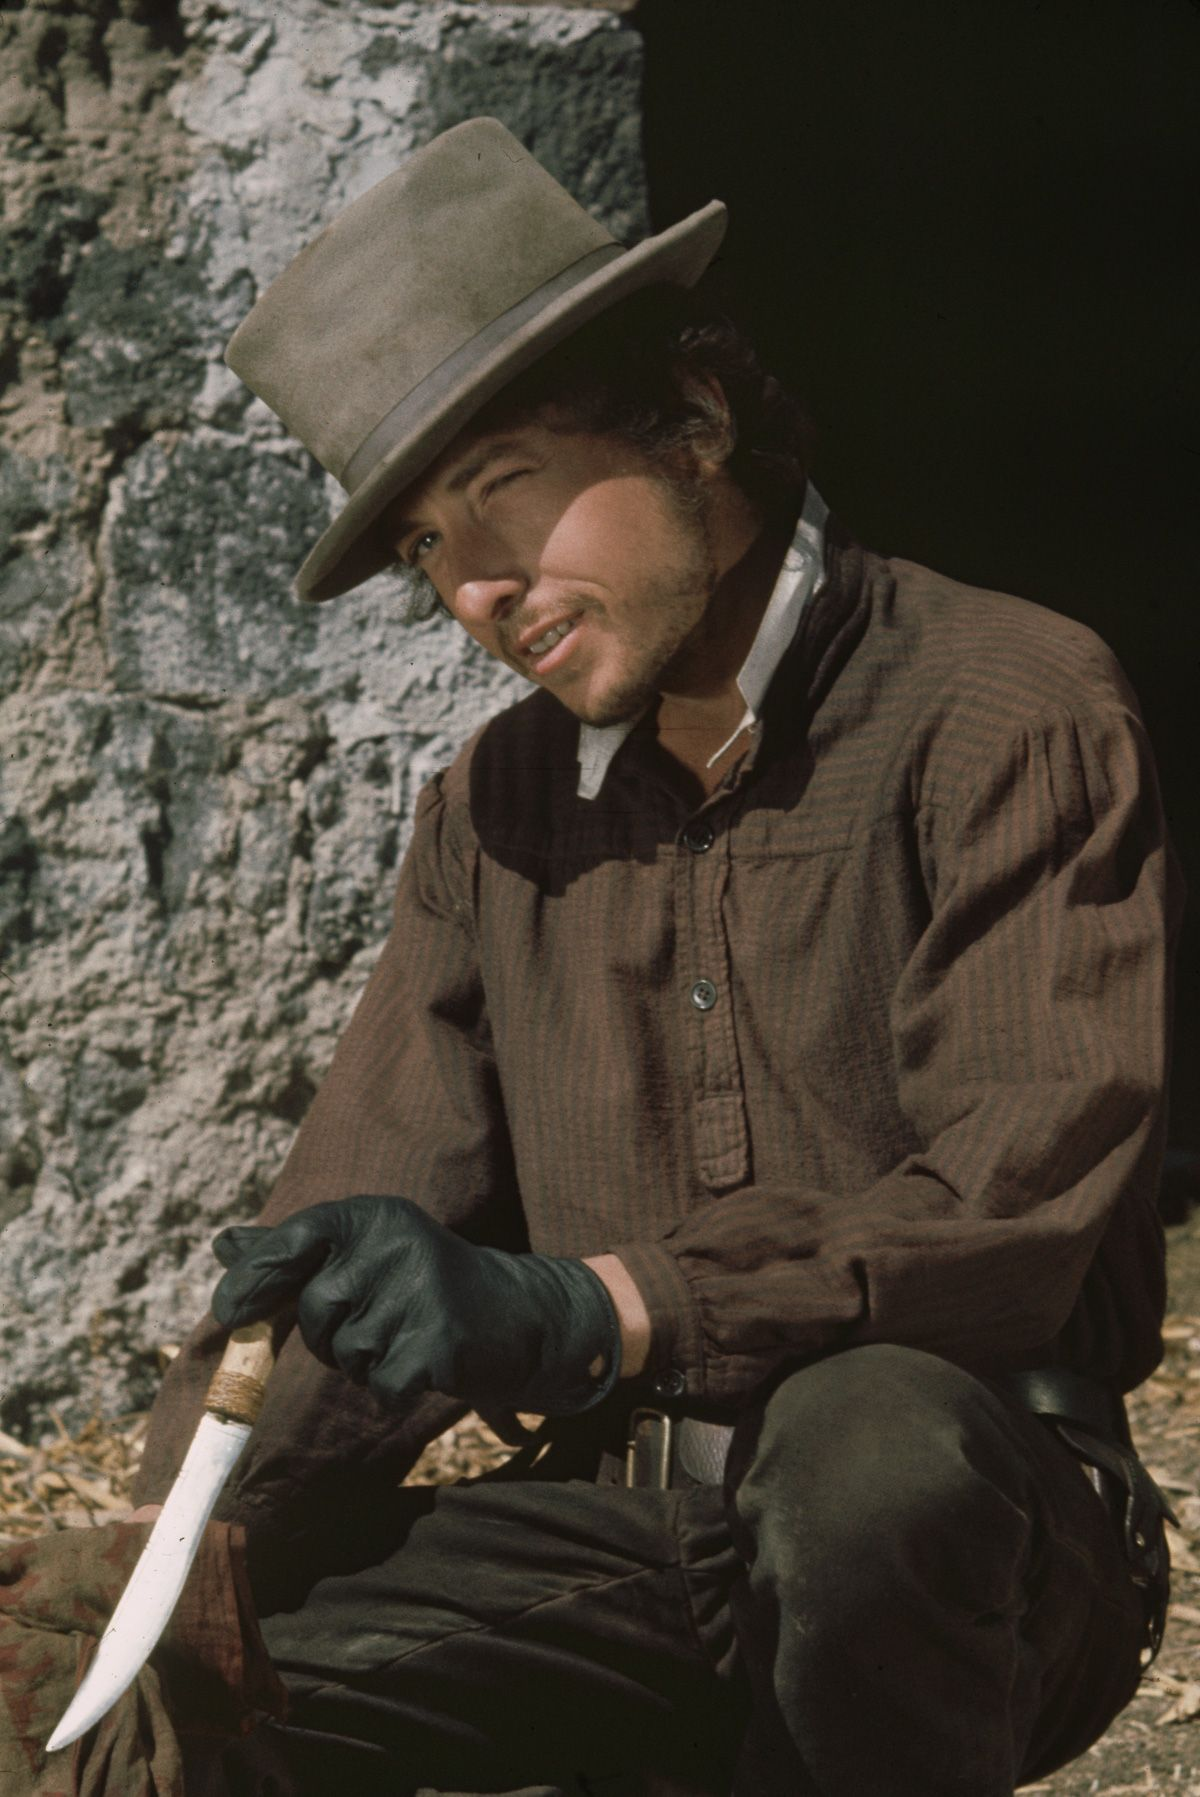gun: (34, 1223, 322, 1767)
person: (140, 92, 1197, 1797)
